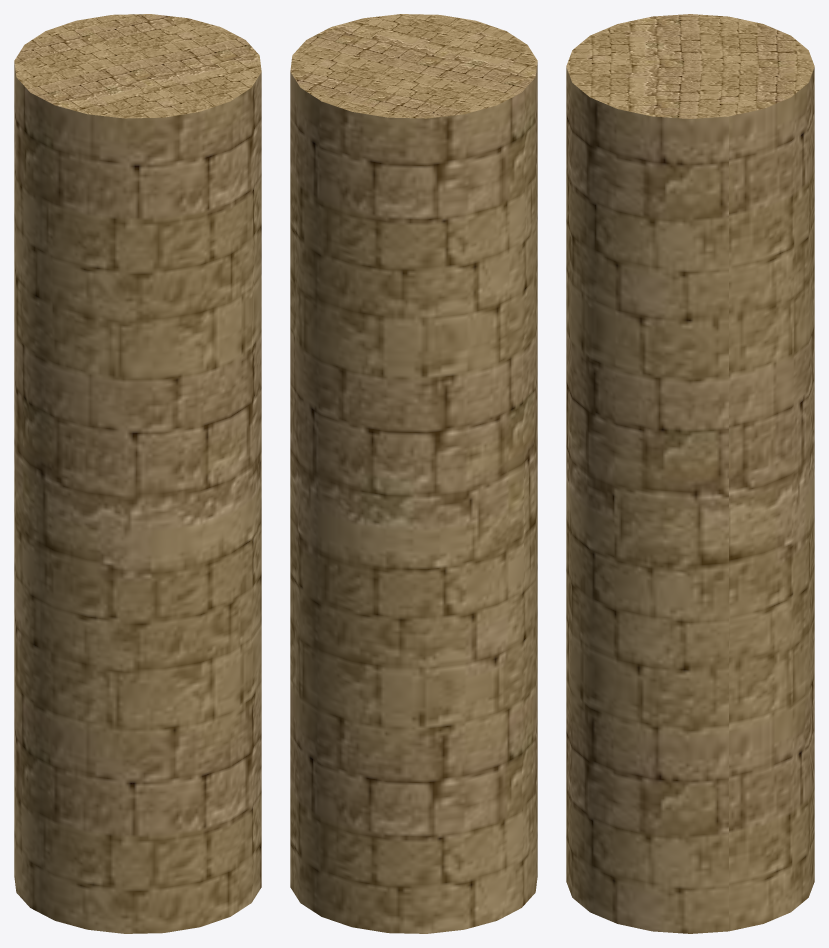
Rendered from Pillar_1.fbx.
The picture shows the model from 3 angles, left to right: view 1: azimuth 30°, elevation 25°; view 2: azimuth 150°, elevation 25°; view 3: azimuth 270°, elevation 25°; orthographic projection.
Visible parts, largest first — view 1: pCylinder1; view 2: pCylinder1; view 3: pCylinder1.
Part boxes in pixels (box(x1,y1,x2,y2)): pCylinder1: box(14, 14, 261, 933); pCylinder1: box(290, 14, 537, 933); pCylinder1: box(566, 14, 814, 933).
Bounding box in the file's own units: 0.62 × 2.24 × 0.62.
